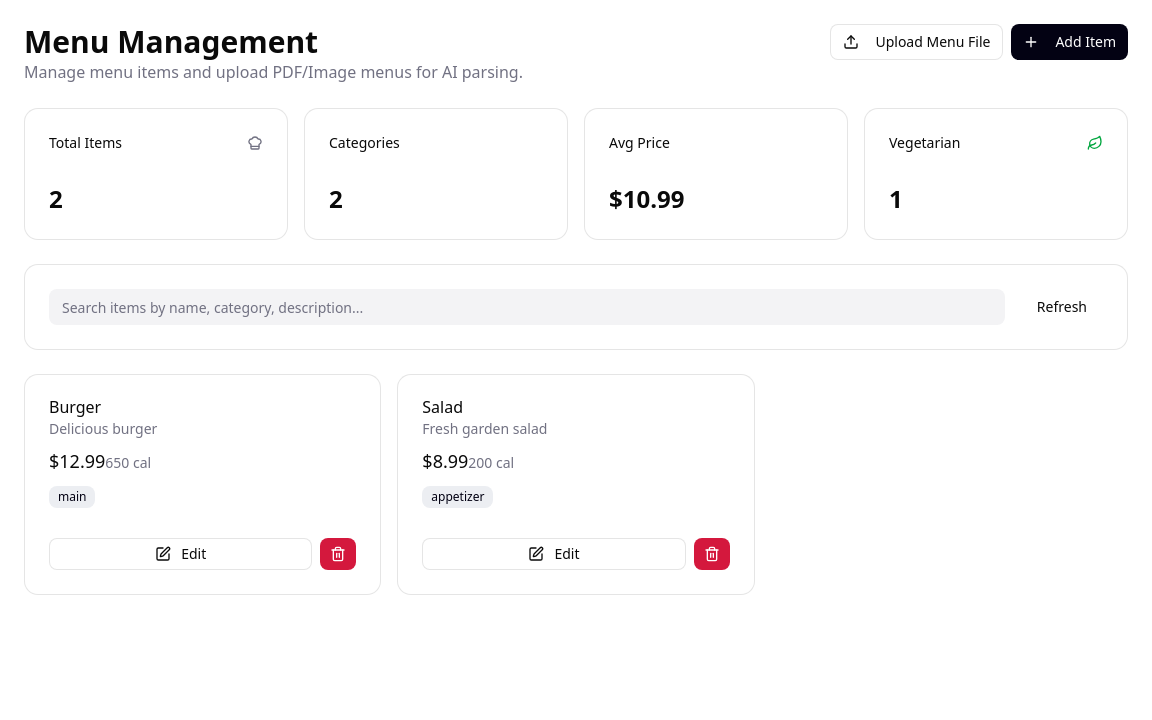
Test: MenuManagement Component › Add Item Dialog › opens add item dialog when Add Item button is clicked
This screenshot has width=1152, height=720.
Click the button "Add Item" at (1070, 42), box [1011,24,1128,60]
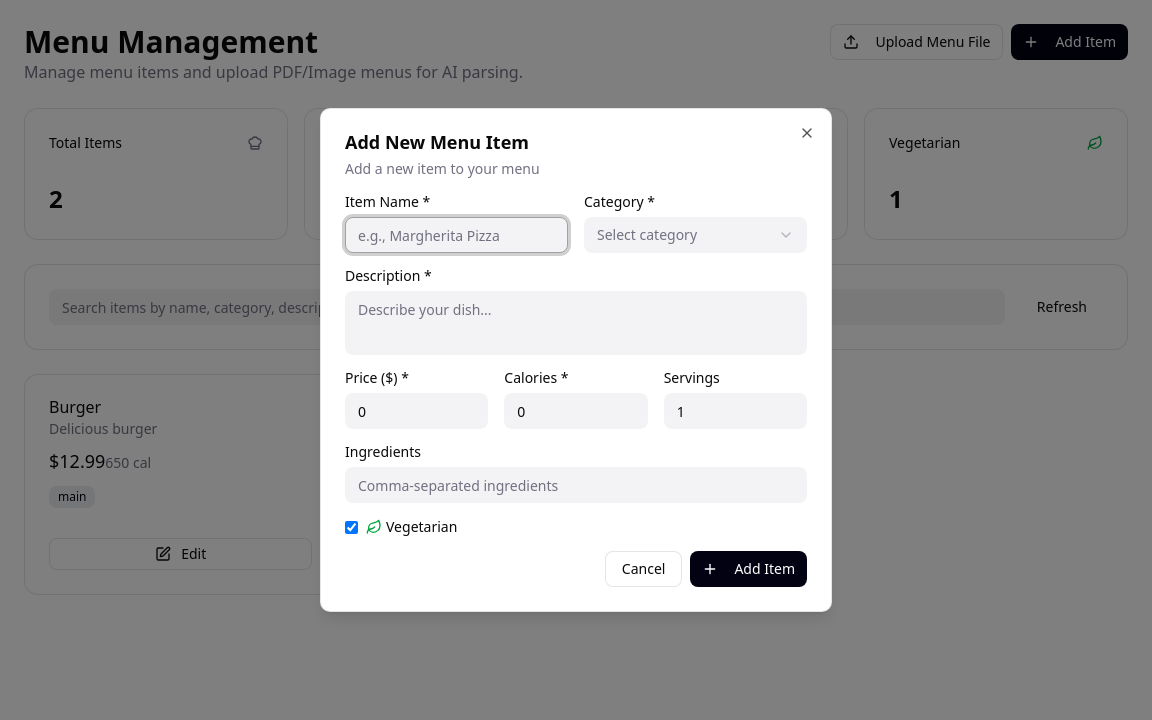
Now the heading "Add New Menu Item" is shown, box [345,130,529,154]
